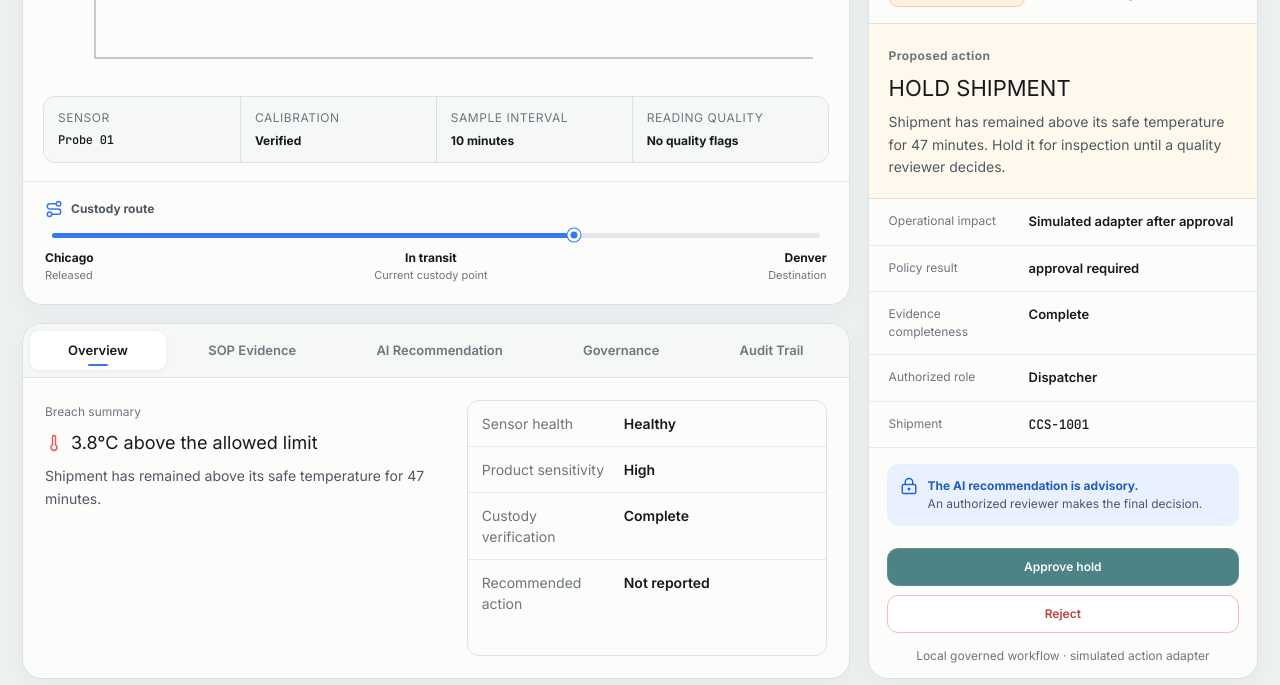
canonical investigation presentation › renders complete server-owned SOP, recommendation, governance, and audit content
The image size is (1280, 685).
(page scrolled)
Step 1. Click the tab "SOP Evidence" → x=252, y=351, box [170, 331, 334, 370]
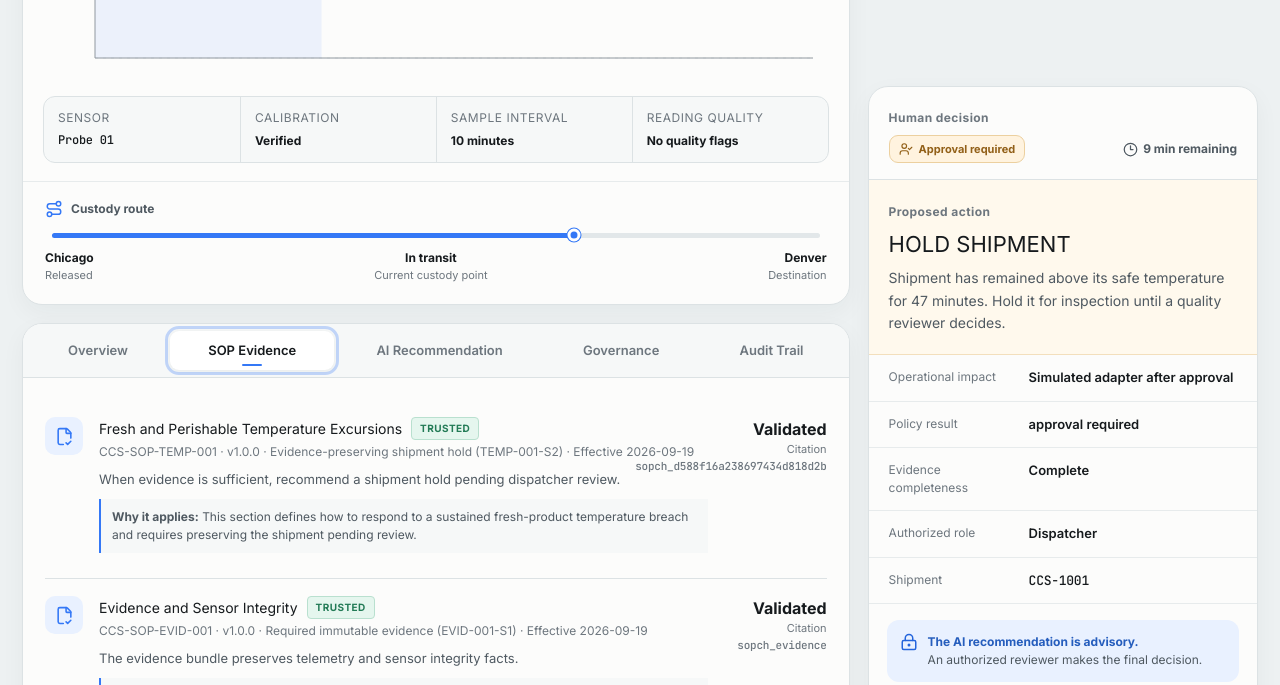
Now the heading "Fresh and Perishable Temperature Excursions" is shown, box [99, 418, 402, 439]
Now the heading "Evidence and Sensor Integrity" is shown, box [99, 597, 298, 618]
Now the text "trusted" is shown 3 times
Step 2. Click the tab "AI Recommendation" → x=440, y=351, box [338, 331, 541, 370]
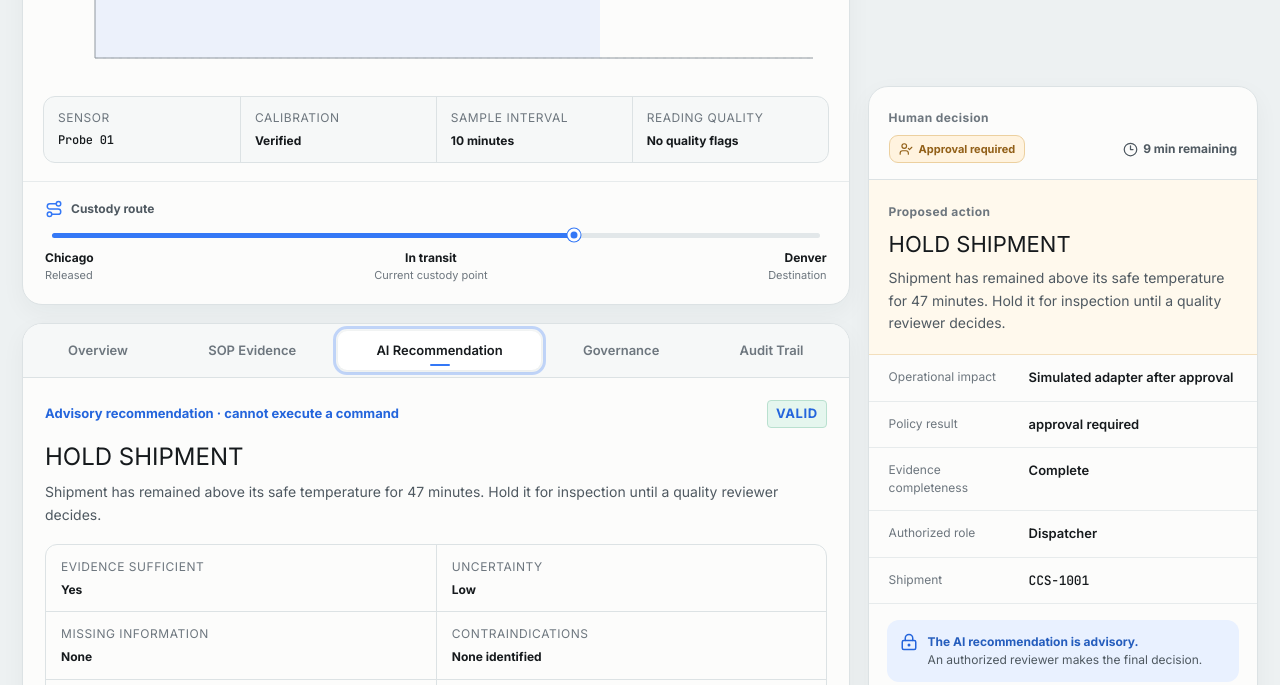
Now the text "Advisory recommendation · cannot execute a command" is shown, box [45, 404, 399, 424]
Step 3. Click the tab "Governance" → x=621, y=351, box [545, 331, 697, 370]
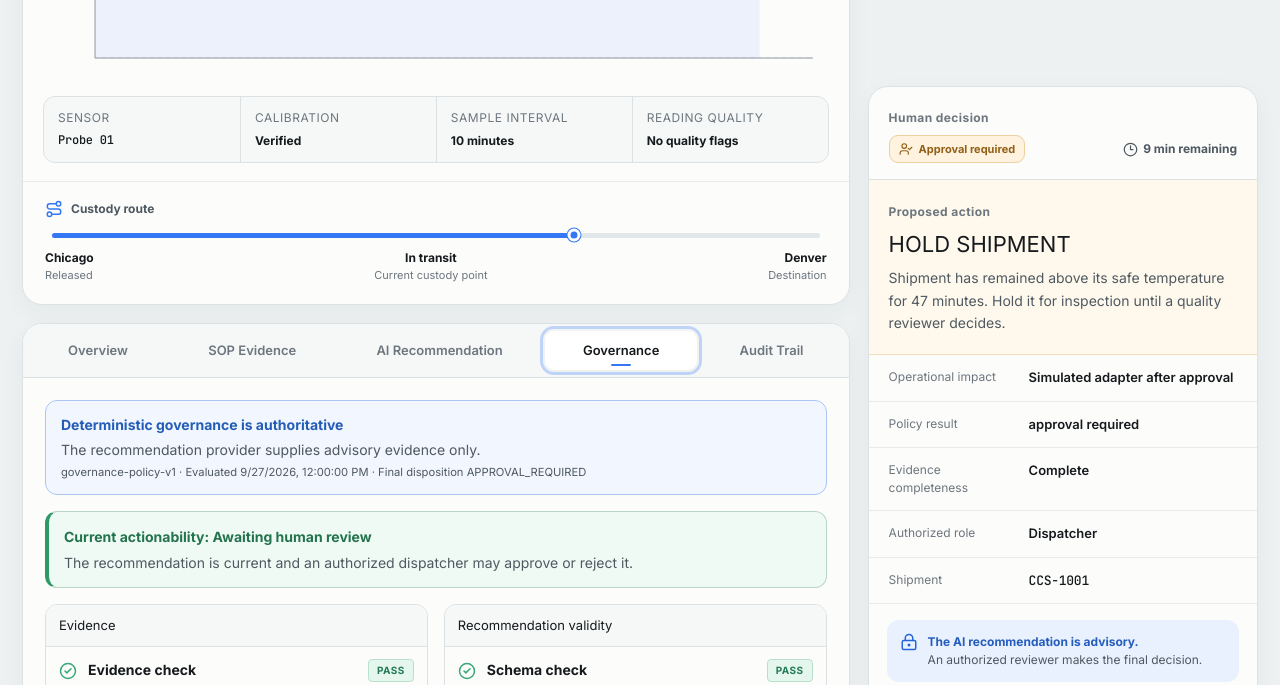
Now the text "Deterministic governance is authoritative" is shown, box [61, 416, 343, 433]
Now the text "Current actionability: Awaiting human review" is shown, box [64, 528, 372, 545]
Now the text "Final disposition APPROVAL_REQUIRED" is shown, box [61, 465, 586, 479]
Step 4. Click the tab "Audit Trail" → x=772, y=351, box [702, 331, 842, 370]
(page scrolled)
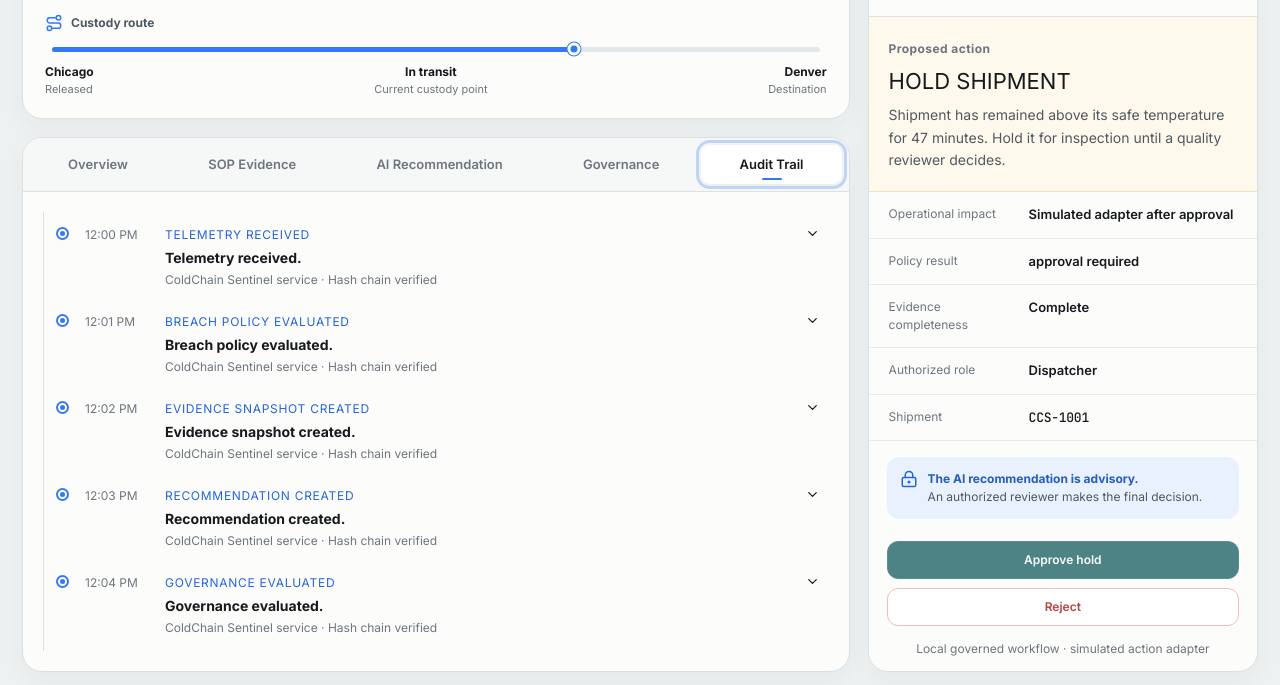
Now the text "Telemetry received" is shown, box [165, 227, 310, 242]
Now the text "Breach policy evaluated" is shown, box [165, 314, 350, 329]
Now the text "Evidence snapshot created" is shown, box [165, 401, 370, 416]
